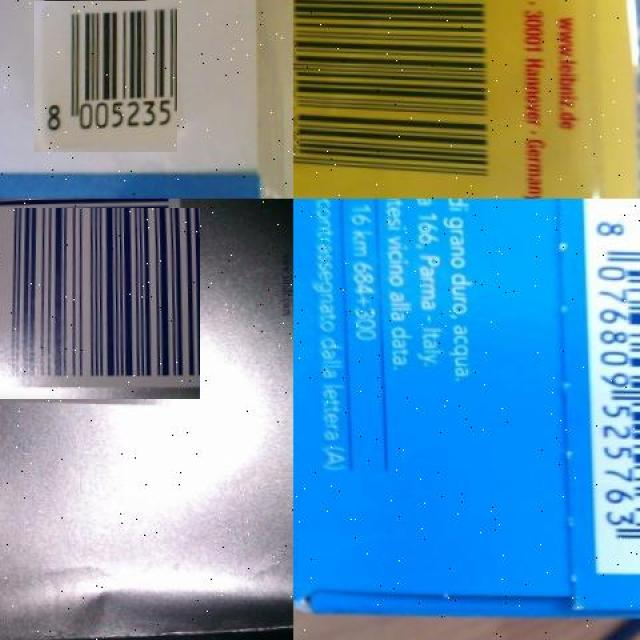Barcode: (293, 0, 512, 199), (0, 204, 196, 404), (29, 0, 182, 148), (589, 199, 640, 573)
